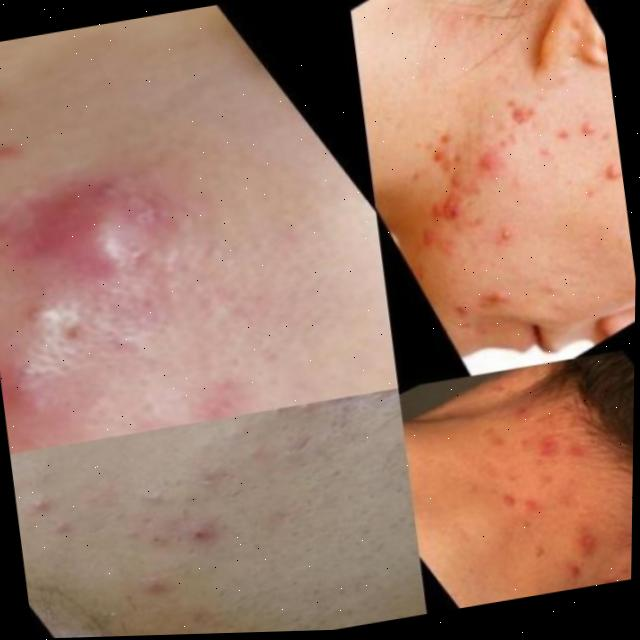Acne: (0, 161, 248, 452), (403, 79, 639, 338), (27, 452, 249, 639), (453, 396, 629, 606)
